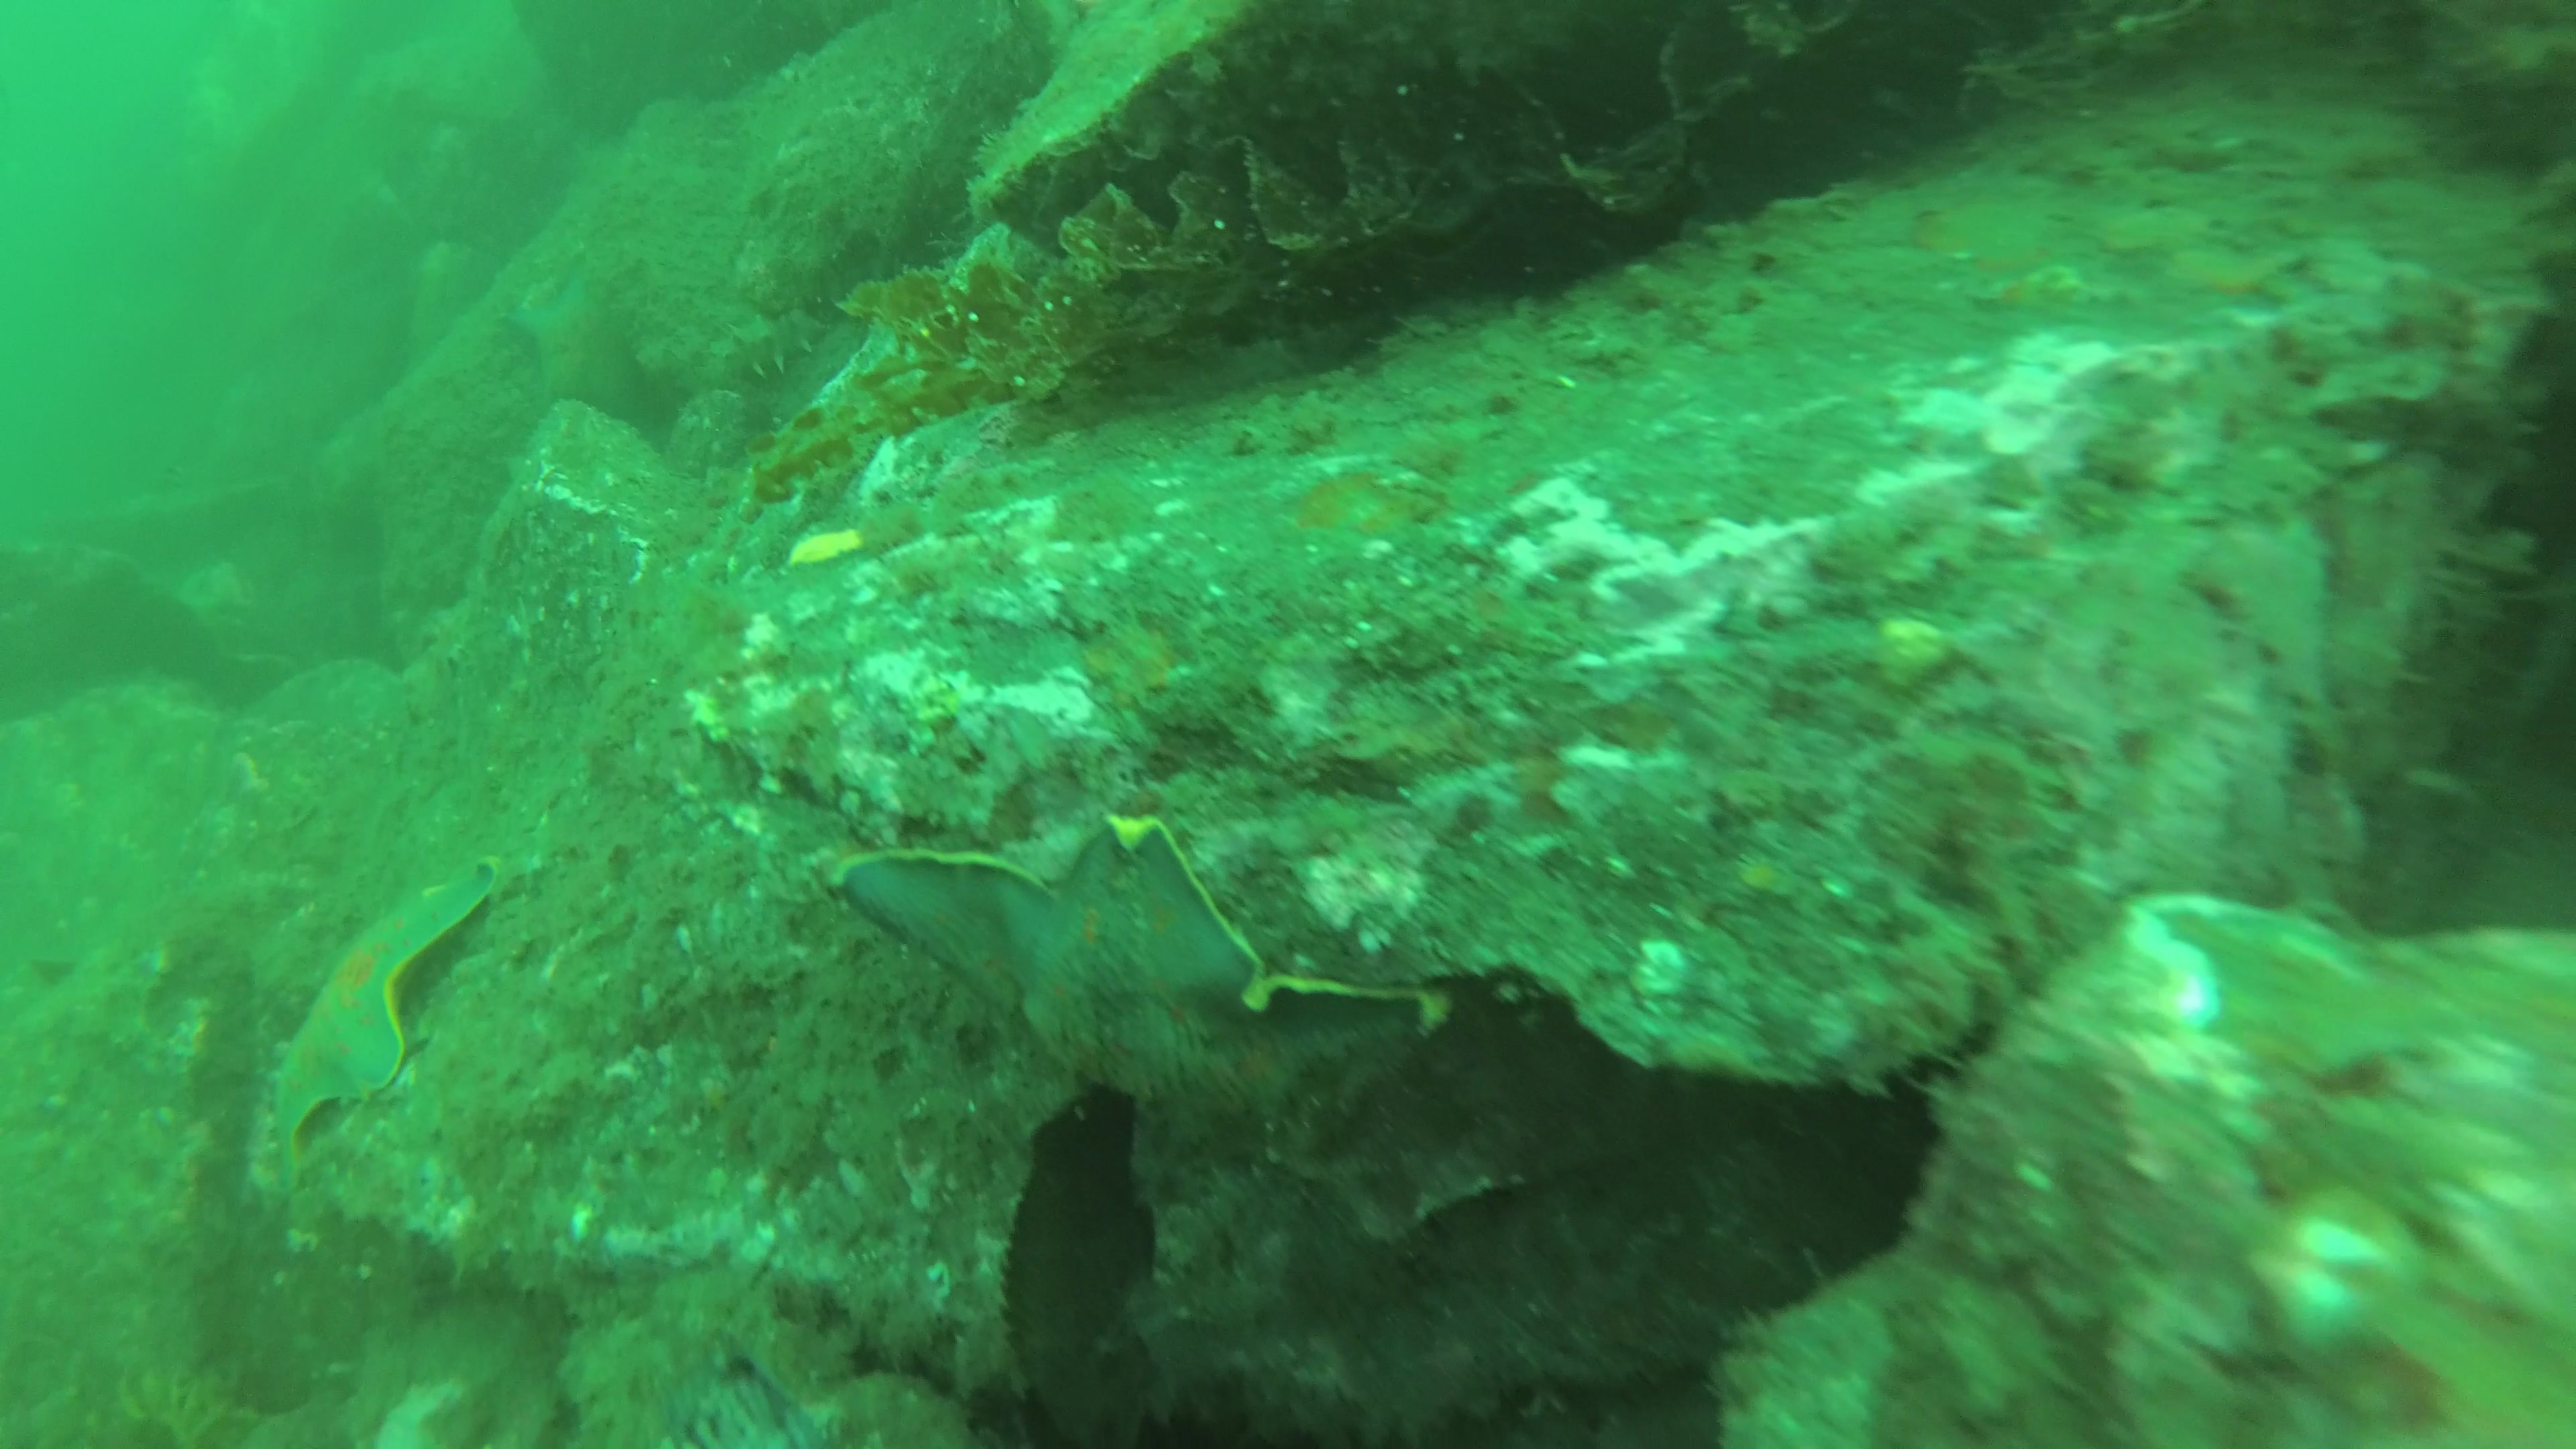holothurian: (706, 303, 840, 387)
starfish: (819, 816, 1449, 1138), (265, 856, 510, 1178)
